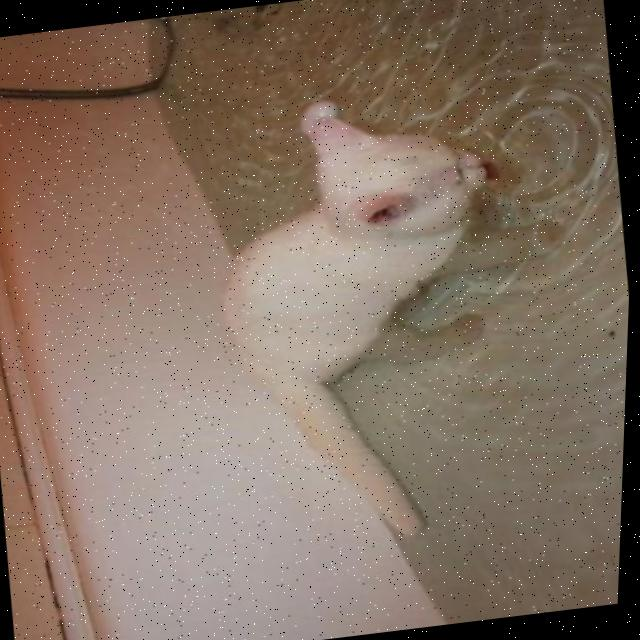Cats: (143, 72, 620, 582)
